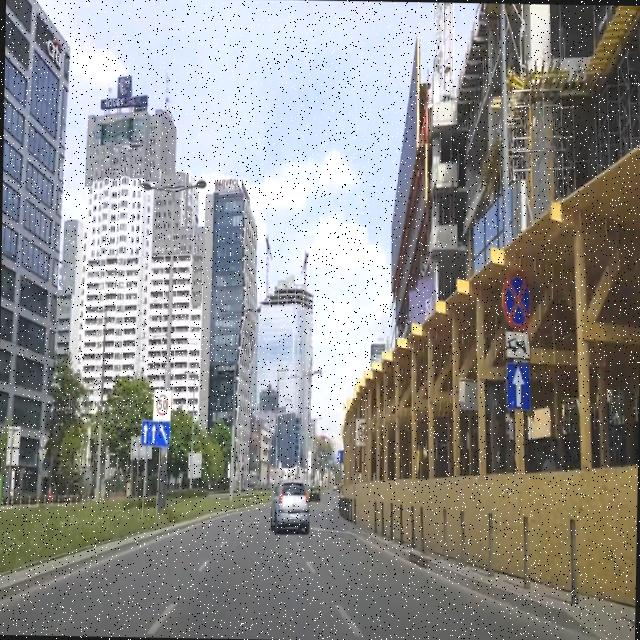Zakaz zatrzymywania sie: (499, 270, 532, 329)
